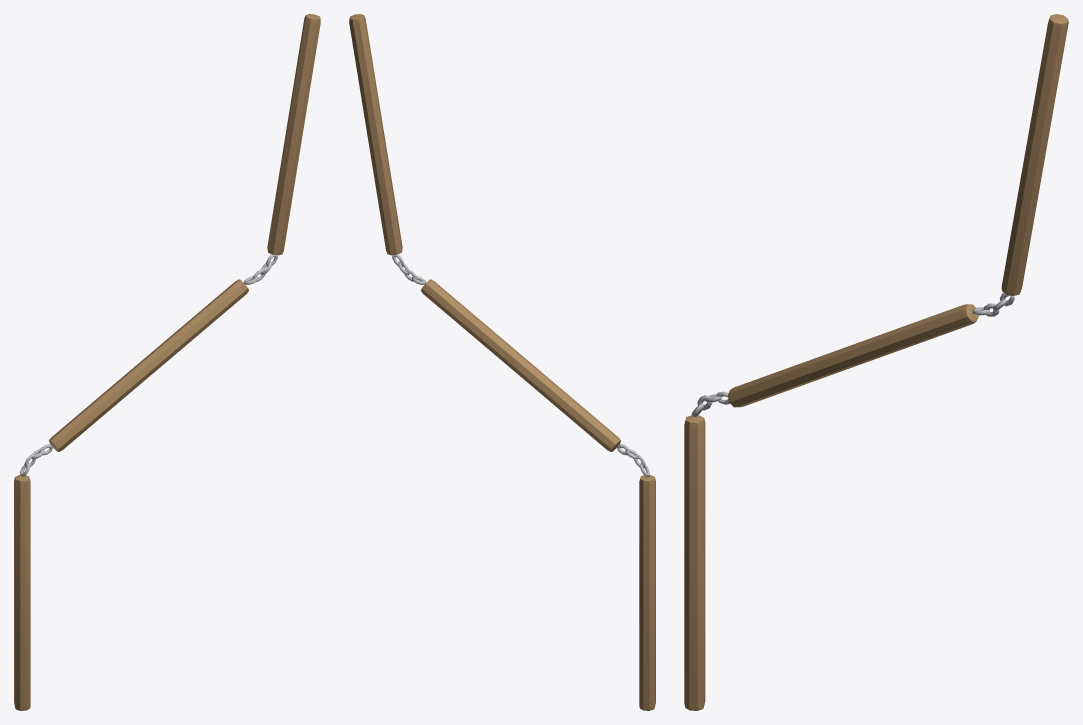
The model's file is sansetsukon.glb.
The picture shows the model from 3 angles, left to right: view 1: azimuth 30°, elevation 25°; view 2: azimuth 150°, elevation 25°; view 3: azimuth 330°, elevation 25°; orthographic projection. The views are drawn at different scales.
Visible parts, largest first — view 1: sansetsukon; view 2: sansetsukon; view 3: sansetsukon.
Part boxes in pixels (box(x1,y1,x2,y2)): sansetsukon: box(14, 14, 320, 710); sansetsukon: box(349, 14, 655, 710); sansetsukon: box(684, 14, 1068, 710).
Size of the model in its own units: 1.31 by 2.55 by 0.064.
